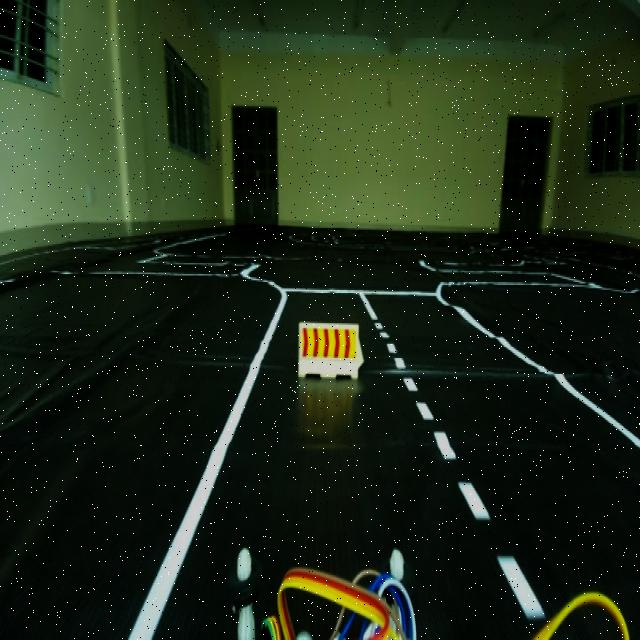roadblock: (294, 310, 368, 390)
